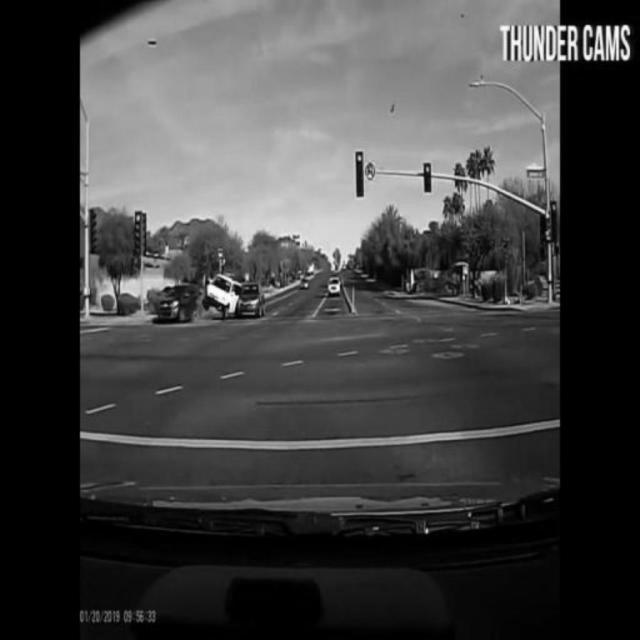accident: (153, 276, 235, 324)
vehicle: (237, 282, 264, 316), (323, 276, 343, 294)
